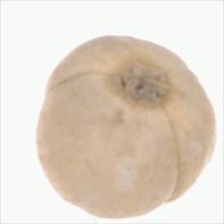L4: (34, 35, 217, 219)
